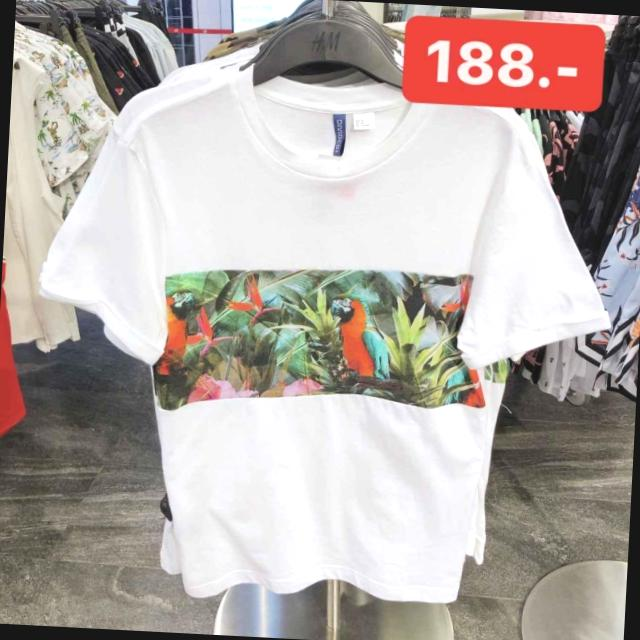Tshirt: (19, 53, 624, 614)
